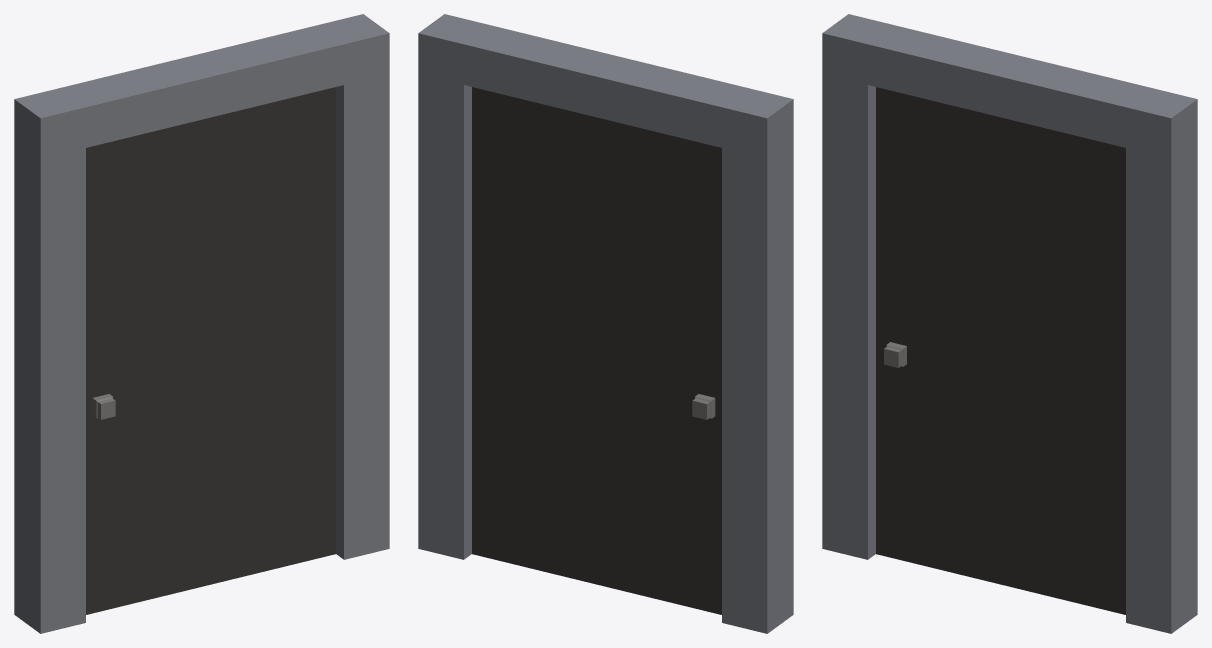
The model's file is Door_1B.fbx.
3 renders of one model, left to right at view 1: azimuth 30°, elevation 25°; view 2: azimuth 150°, elevation 25°; view 3: azimuth 330°, elevation 25°, orthographic.
Parts seen in each view (by area): view 1: polySurface2016, polySurface2017; view 2: polySurface2016, polySurface2017; view 3: polySurface2016, polySurface2017.
Boxes of the visible parts, x1,y1,x2,y2 form: polySurface2016: [86, 87, 335, 614]; polySurface2017: [14, 14, 389, 633]; polySurface2016: [472, 87, 721, 614]; polySurface2017: [418, 14, 793, 633]; polySurface2016: [876, 87, 1125, 614]; polySurface2017: [822, 14, 1197, 633].
Bounding box in the file's own units: 2.3 × 3.25 × 0.3.
Materials: 1 (1 with a texture image).
